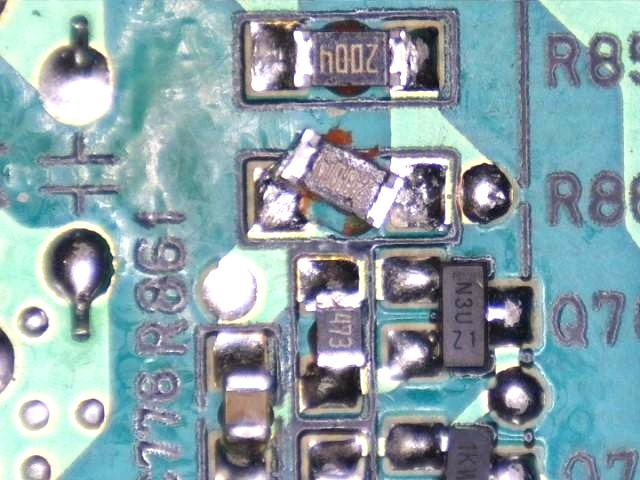pcb_defect: (252, 127, 450, 234), (298, 259, 364, 408), (213, 335, 273, 480)
